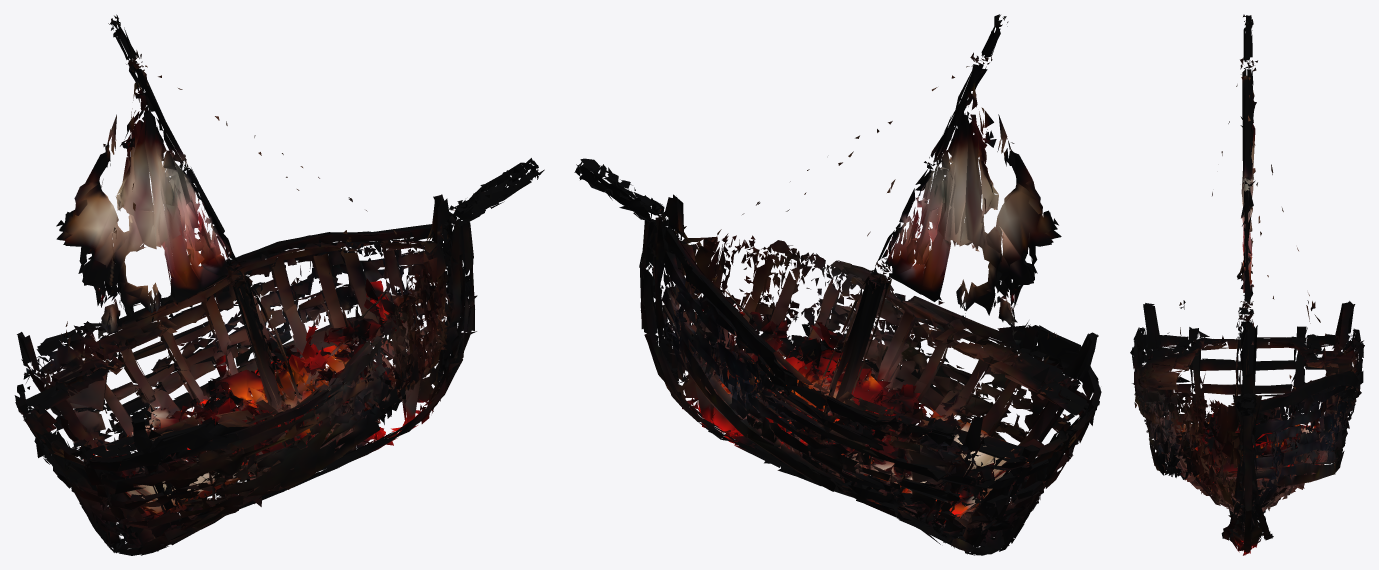
Rendered from burning_wreck.glb.
The picture shows the model from 3 angles, left to right: view 1: azimuth 30°, elevation 25°; view 2: azimuth 150°, elevation 25°; view 3: azimuth 270°, elevation 25°; orthographic projection. The views are drawn at different scales.
Visible parts, largest first — view 1: burning_wreck_body; view 2: burning_wreck_body; view 3: burning_wreck_body.
Part boxes in pixels (x1,y1,x2,y2): burning_wreck_body: (14, 14, 544, 555); burning_wreck_body: (574, 14, 1101, 555); burning_wreck_body: (1130, 14, 1364, 555).
Bounding box in the file's own units: 7.04 × 7.2 × 3.31.
1 material, 1 textured.
